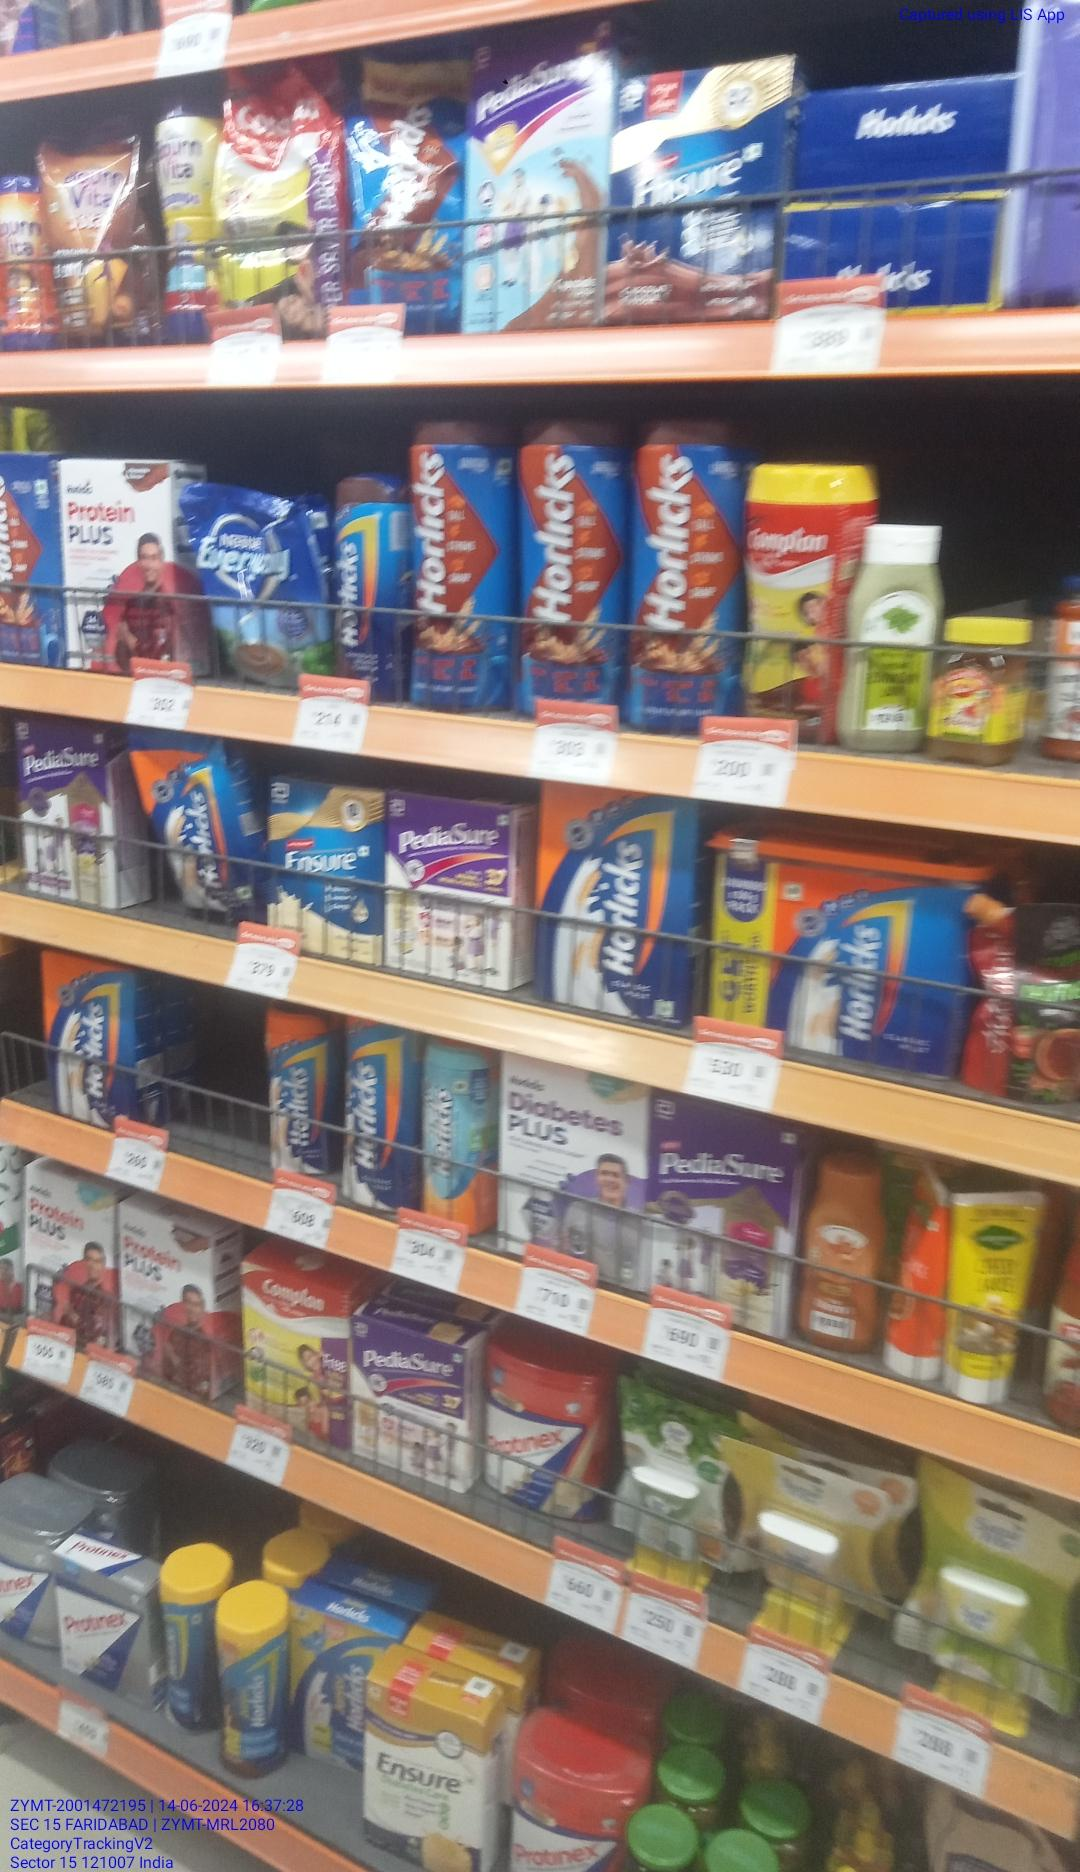COMPLAN_CHOCOLATE_500_GMS_JAR: (744, 460, 841, 748)
COMPLAN_KESAR_BADAM_500_GMS_PACK: (240, 1264, 350, 1443)
ENSURE_VANILLA_400_G_PACK: (359, 1674, 482, 1872), (391, 792, 513, 987), (265, 775, 384, 969)
HORLICKS_LITE_REGULAR_MALT_500_GM_JAR: (419, 1038, 482, 1234)
HORLICK_CLASSIC_MALT_500_G_JAR: (341, 1013, 411, 1209), (264, 1003, 336, 1183)
HORLICK_CLASSIC_MALT_500_G_PACK: (530, 787, 690, 1026), (41, 948, 138, 1131)
HORLICK_MALT_1_KG_CONTAINER: (707, 834, 960, 1081)
PROTINEX_VANILLA_400_G_JAR: (483, 1337, 590, 1522)
